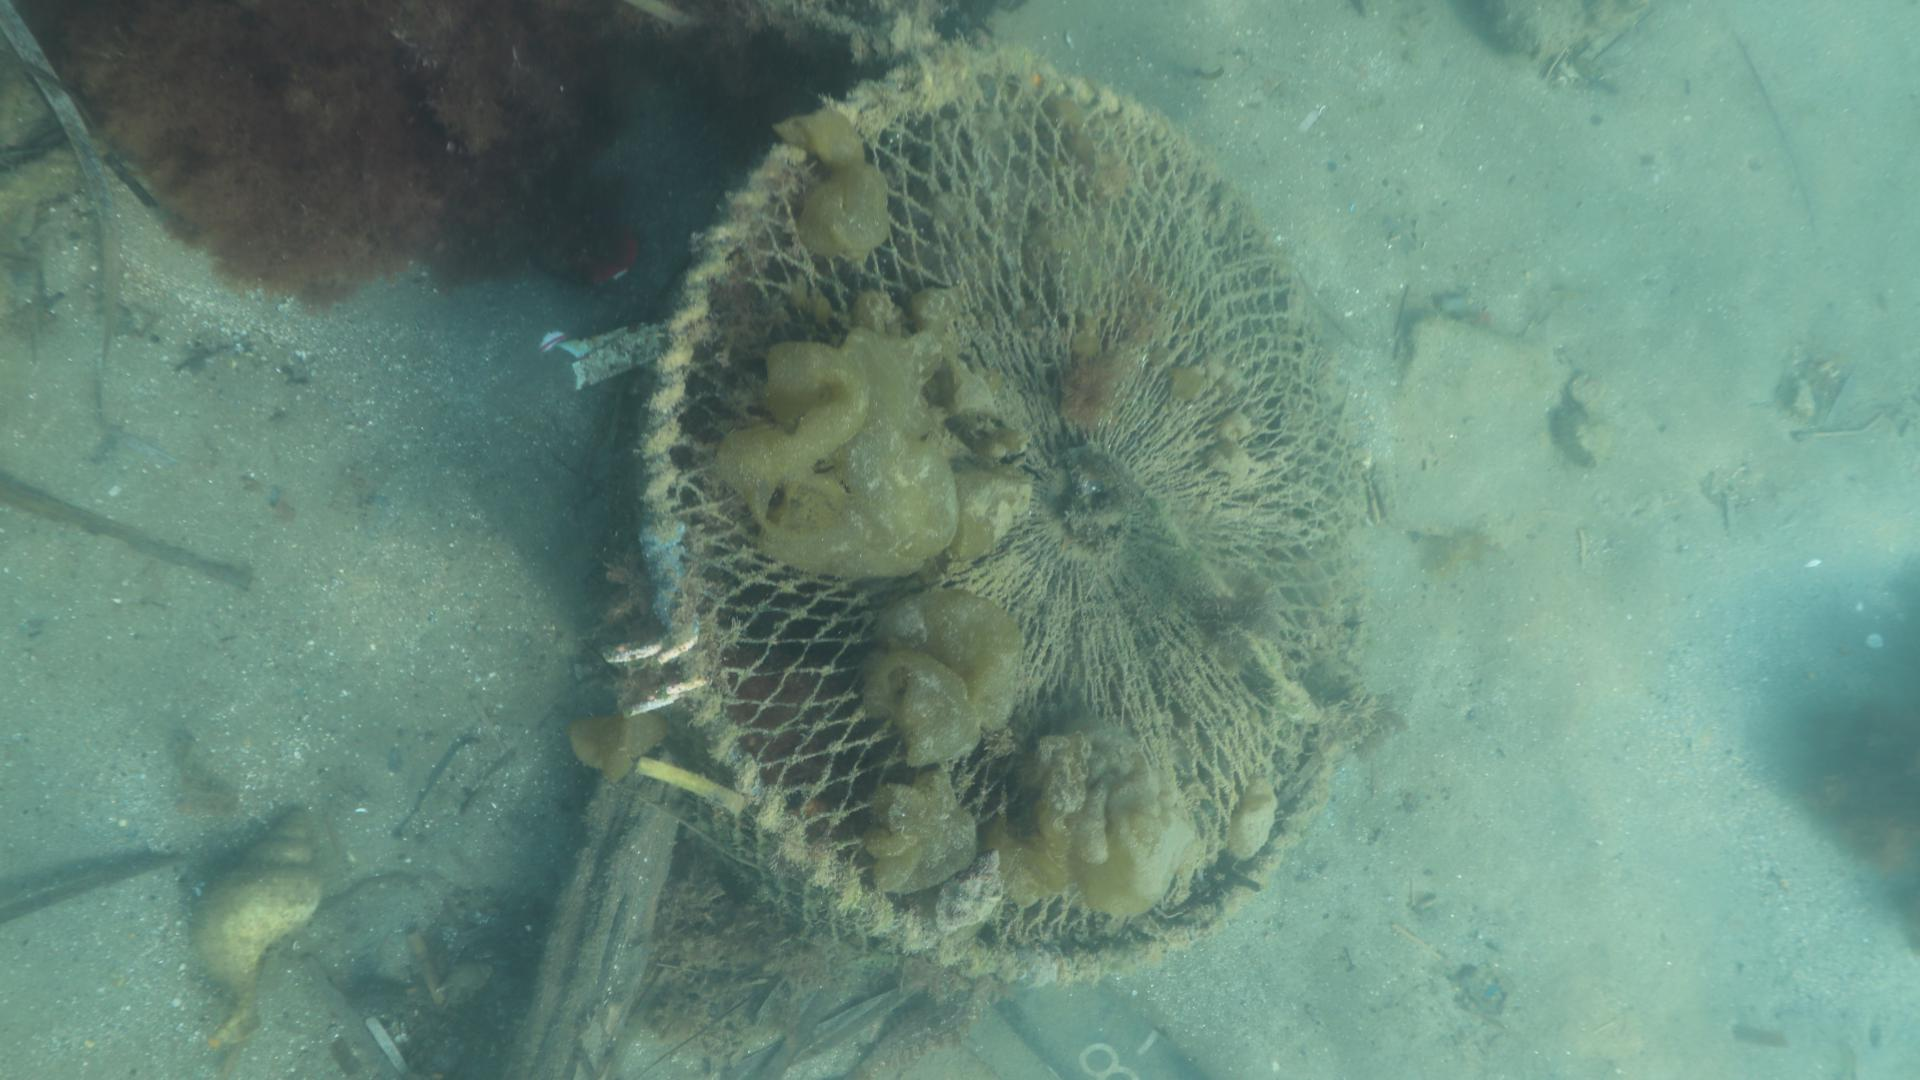circular fish trap: (638, 44, 1367, 985)
